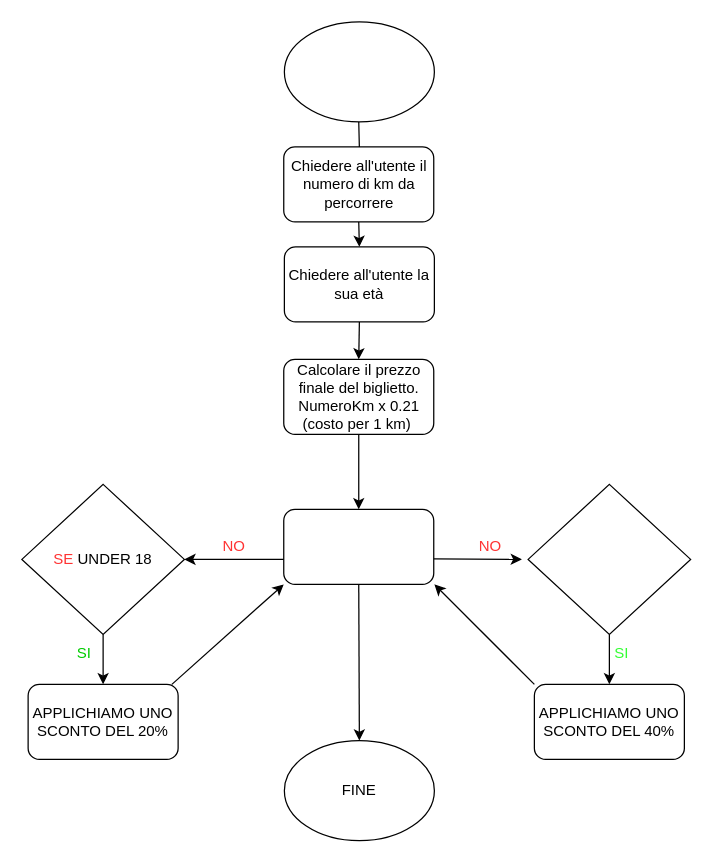
Image size: 713x863. Some labels were removed from this diagram. The centre of each missing label's shape, as x and y in pixels:
"INIZIO" goes at (358,71).
"PREZZO FINALE" goes at (358,546).
"SE OVER 65" goes at (609,558).
